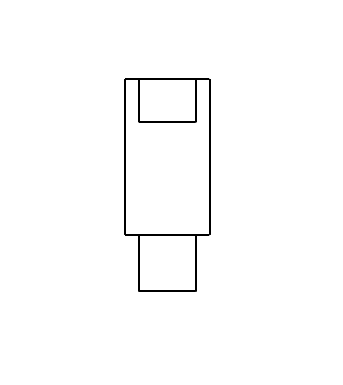nrfp: (112, 70, 219, 134)
